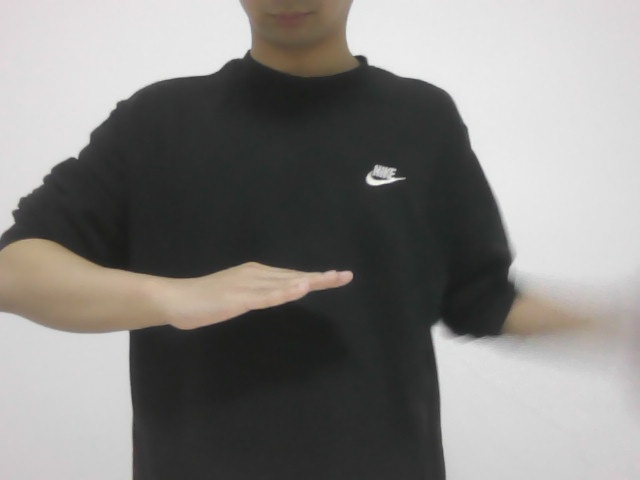safe: (159, 241, 360, 337)
